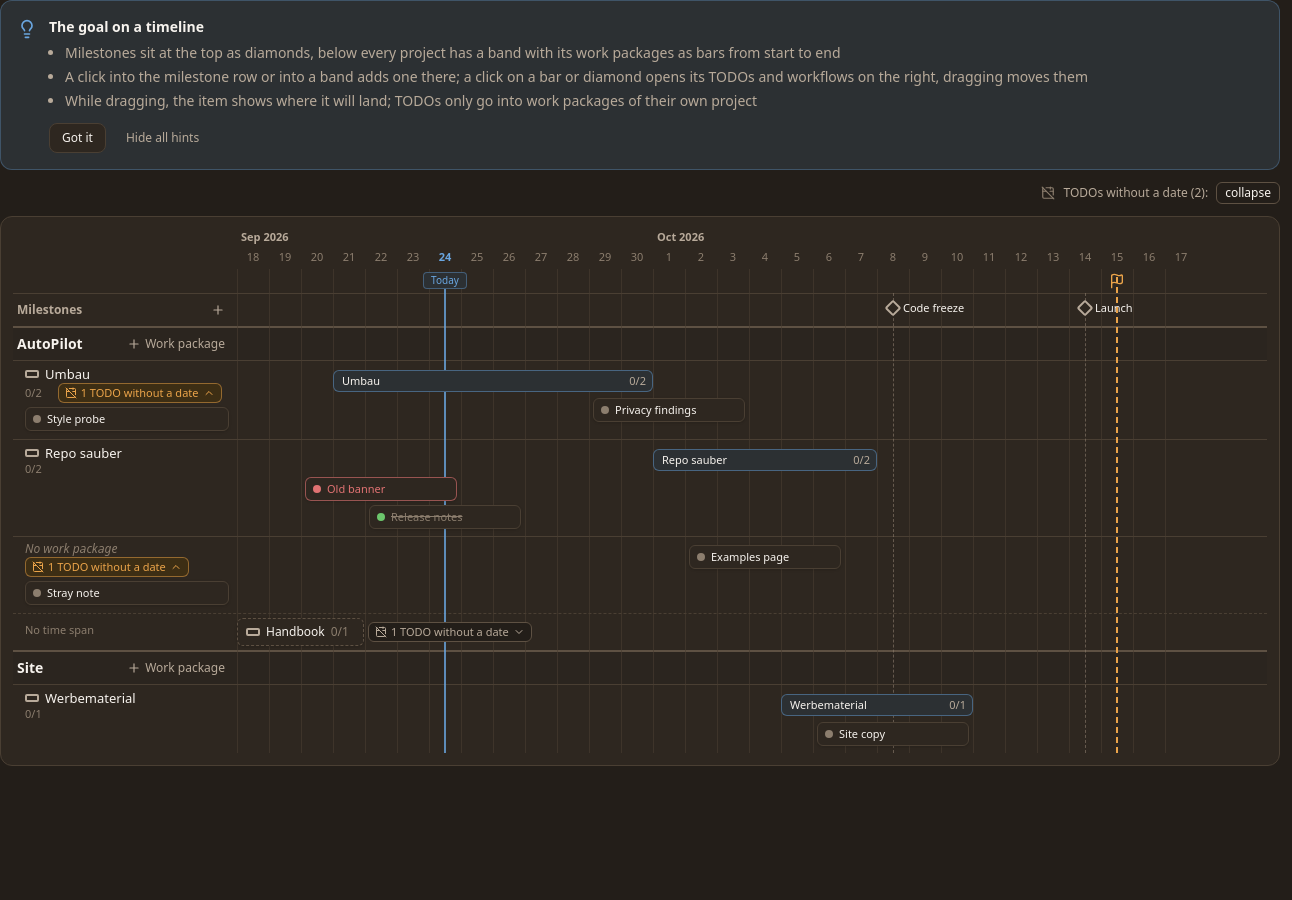
Test: GoalTimeline — adding with a click › "+ work package" in the band head adds one without a time span in the tray
The width and height of the screenshot is (1292, 900).
Click the button with aria-label "New work package in Site" at [176, 668], box [123,658,229,678]
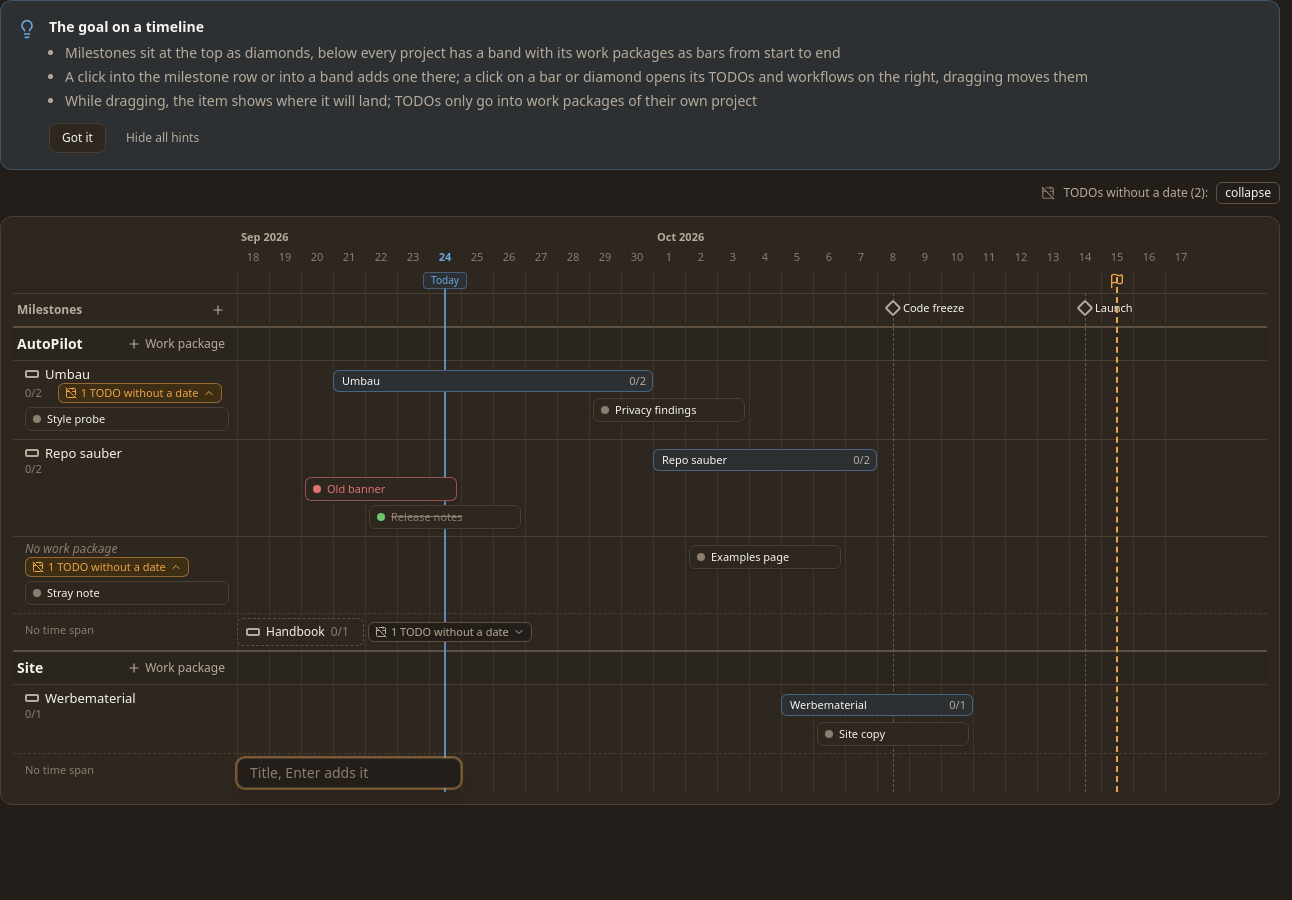
Type "Press kit" into the field named "New work package in Site without a time span" at [349, 773], box [237,758,461,788]
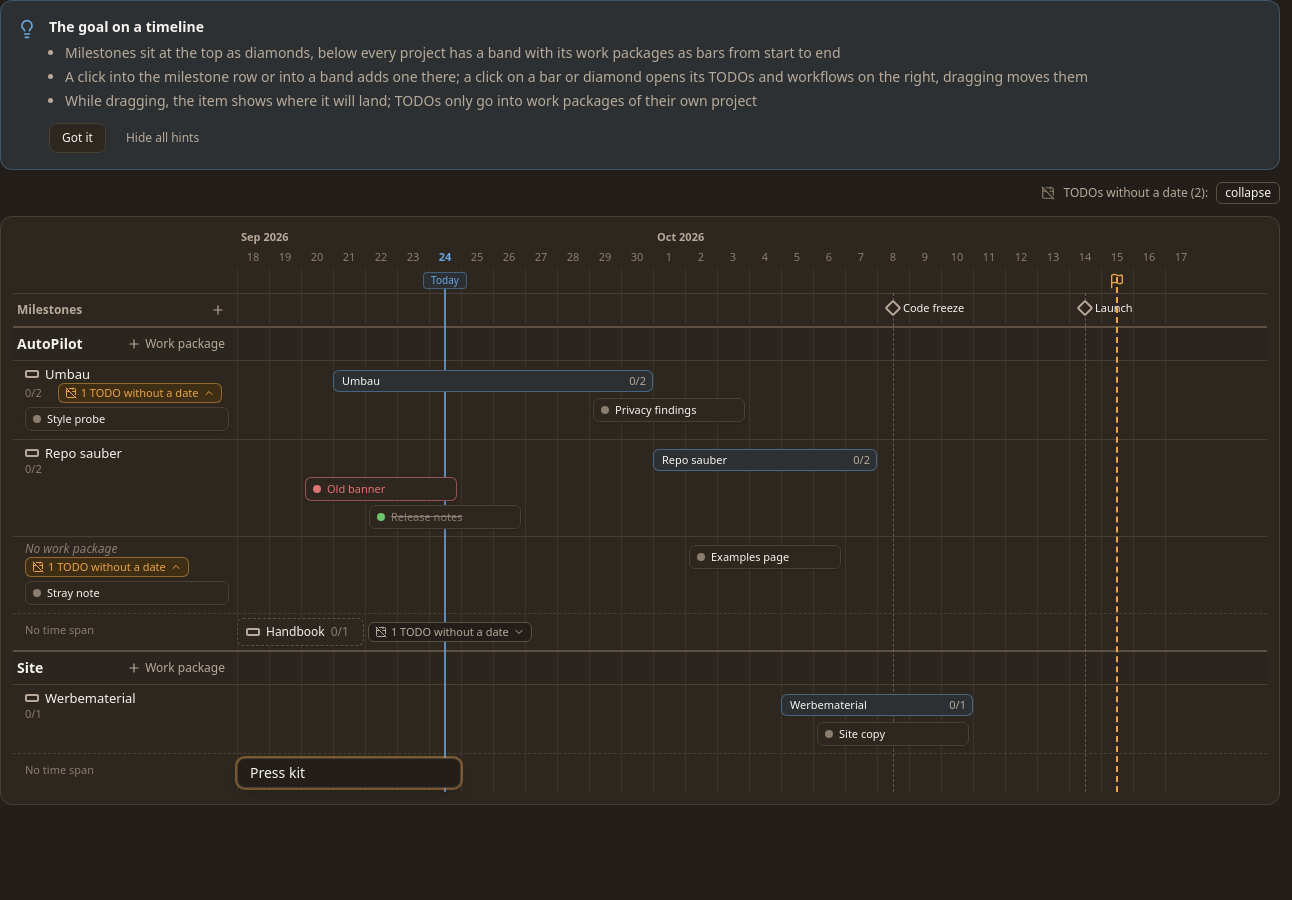
Submit the form named "New work package in Site without a time span", box [237,758,461,788]
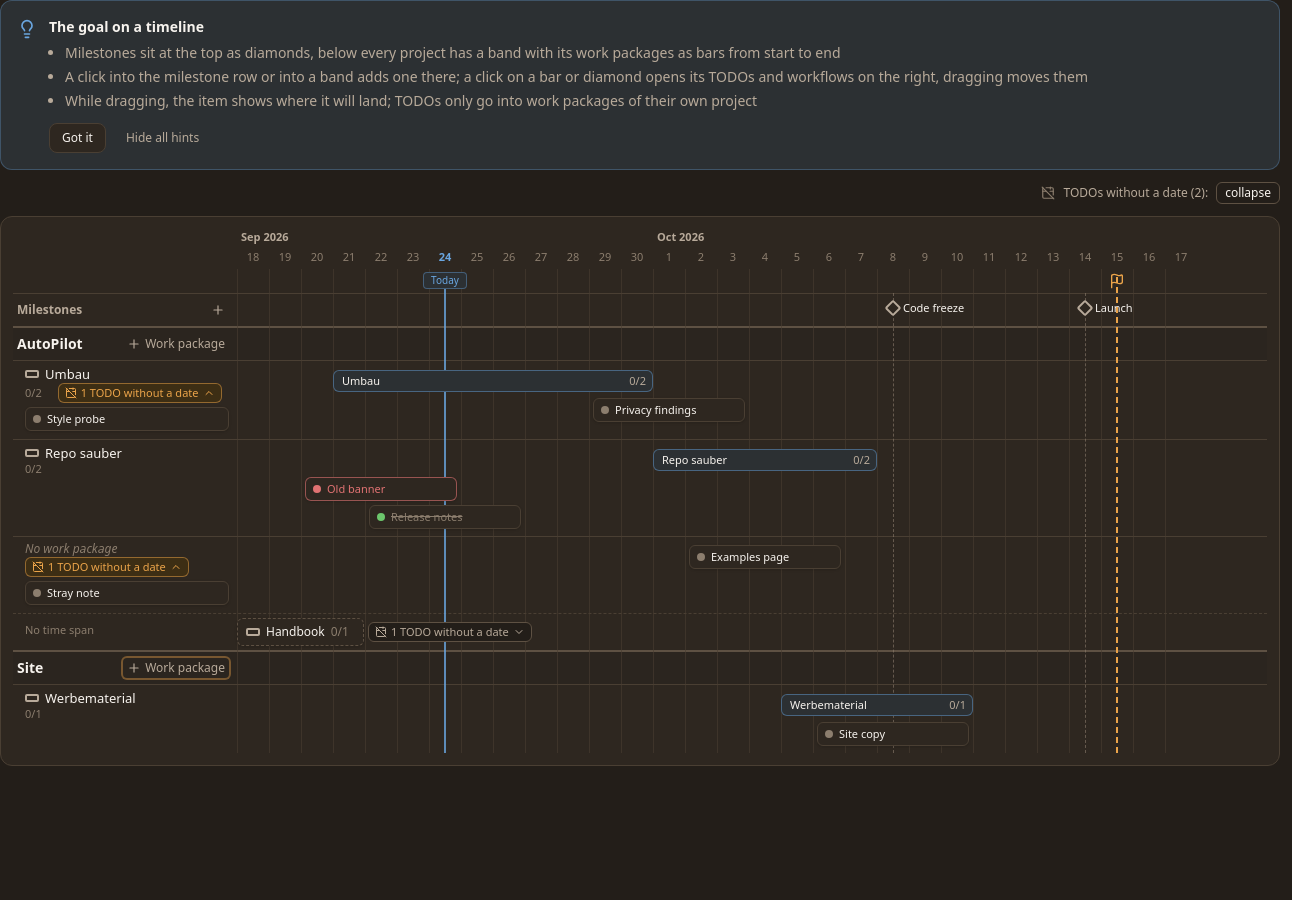
Now the form with test id "inline-title" is gone
